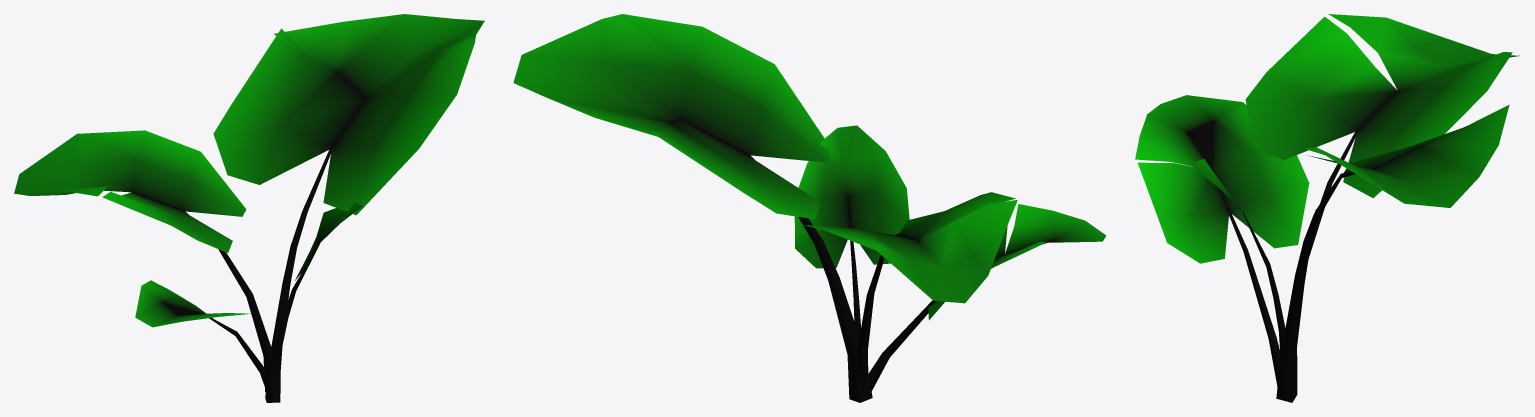
File: GROUND_COVER_02.glb
3 renders of one model, left to right at view 1: azimuth 30°, elevation 25°; view 2: azimuth 150°, elevation 25°; view 3: azimuth 270°, elevation 25°, orthographic. The views are drawn at different scales.
Visible parts, largest first — view 1: GROUND_COVER_02; view 2: GROUND_COVER_02; view 3: GROUND_COVER_02.
Boxes of the visible parts, x1=… form: GROUND_COVER_02: x1=14, y1=14, x2=484, y2=402; GROUND_COVER_02: x1=513, y1=14, x2=1106, y2=402; GROUND_COVER_02: x1=1135, y1=14, x2=1519, y2=402.
Size of the model in its own units: 2.56 by 1.69 by 1.57.
